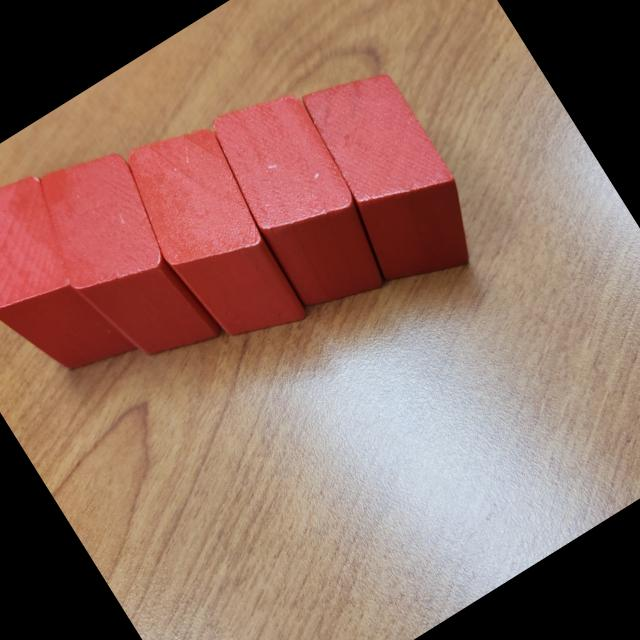red: (105, 106, 324, 366), (278, 51, 497, 307), (13, 134, 231, 388), (192, 72, 408, 328), (0, 160, 147, 406)
